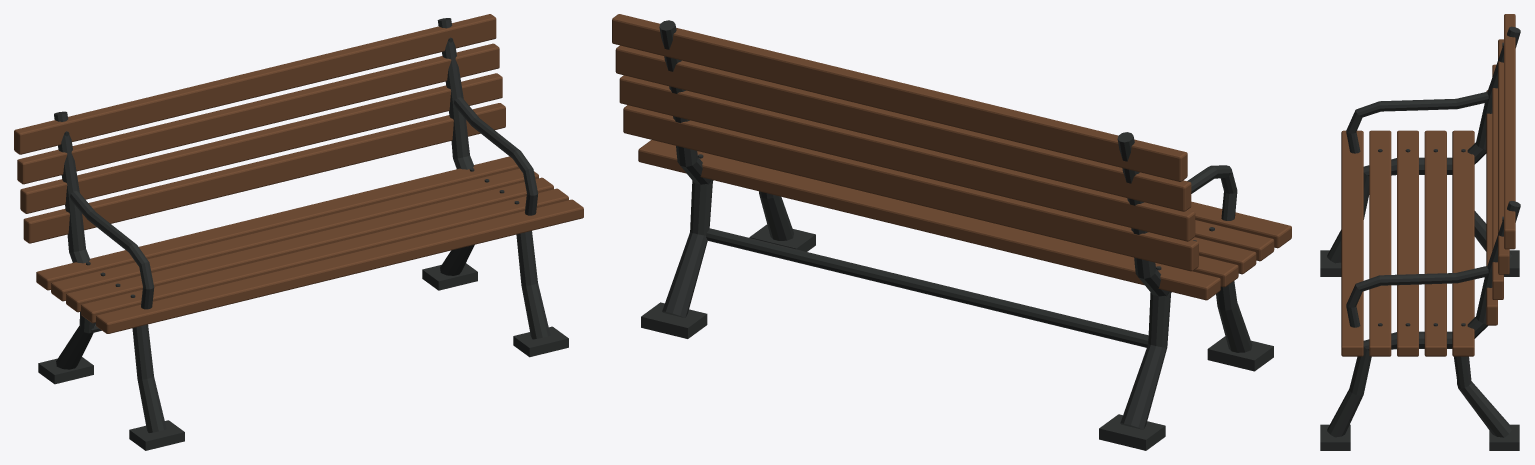
The model's file is park-bench.glb.
3 renders of one model, left to right at view 1: azimuth 30°, elevation 25°; view 2: azimuth 150°, elevation 25°; view 3: azimuth 270°, elevation 25°, orthographic. The views are drawn at different scales.
Parts seen in each view (by area): view 1: Park Bench / wood, Park Bench / black iron; view 2: Park Bench / wood, Park Bench / black iron; view 3: Park Bench / wood, Park Bench / black iron.
Boxes of the visible parts, box(x1,y1,x2,y2) form: Park Bench / wood: box(14, 14, 583, 333); Park Bench / black iron: box(38, 18, 568, 450); Park Bench / wood: box(612, 14, 1291, 300); Park Bench / black iron: box(641, 20, 1273, 450); Park Bench / wood: box(1341, 14, 1515, 356); Park Bench / black iron: box(1320, 26, 1520, 450).
Bounding box in the file's own units: 1.94 × 1 × 0.7594.
